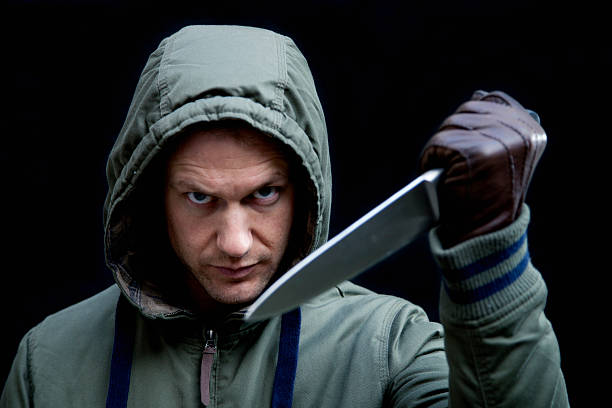knife: (240, 164, 447, 325)
